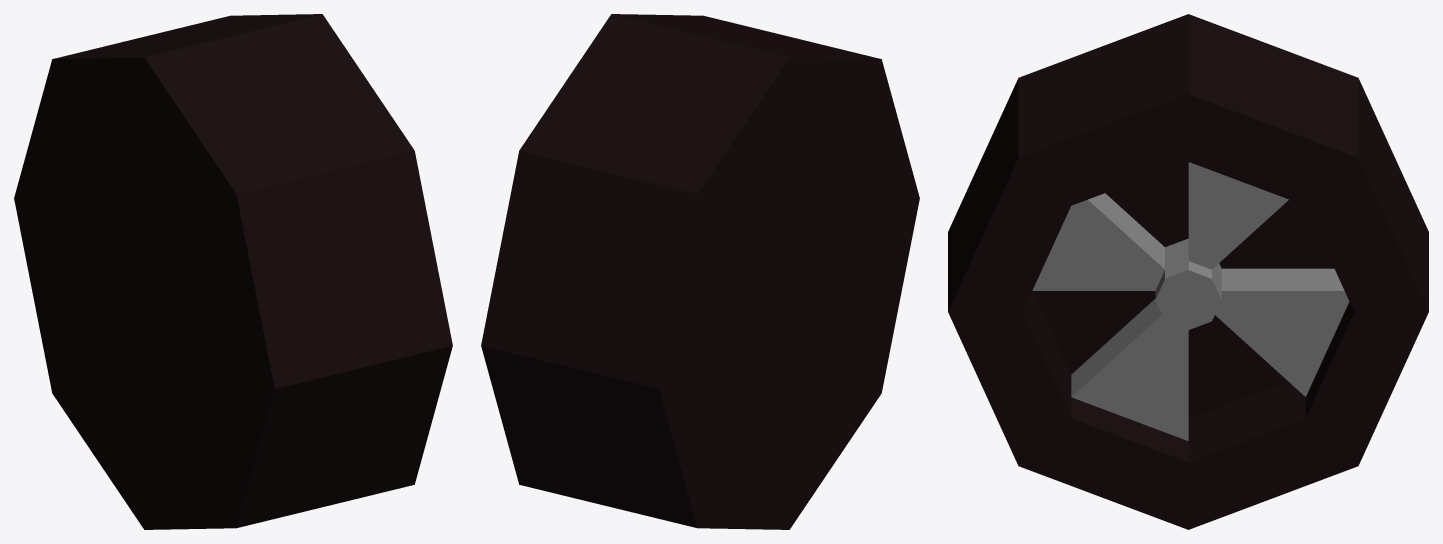
Rendered from LowPaulWheel.fbx.
3 views of the same model, side by side, from view 1: azimuth 30°, elevation 25°; view 2: azimuth 150°, elevation 25°; view 3: azimuth 270°, elevation 25° (orthographic). The views are drawn at different scales.
Visible parts, largest first — view 1: Cube.001; view 2: Cube.001; view 3: Cube.001.
Boxes of the visible parts, x1,y1,x2,y2 form: Cube.001: [14, 14, 452, 529]; Cube.001: [481, 14, 919, 529]; Cube.001: [948, 14, 1428, 529].
Bounding box in the file's own units: 0.2304 × 0.5839 × 0.5839.
